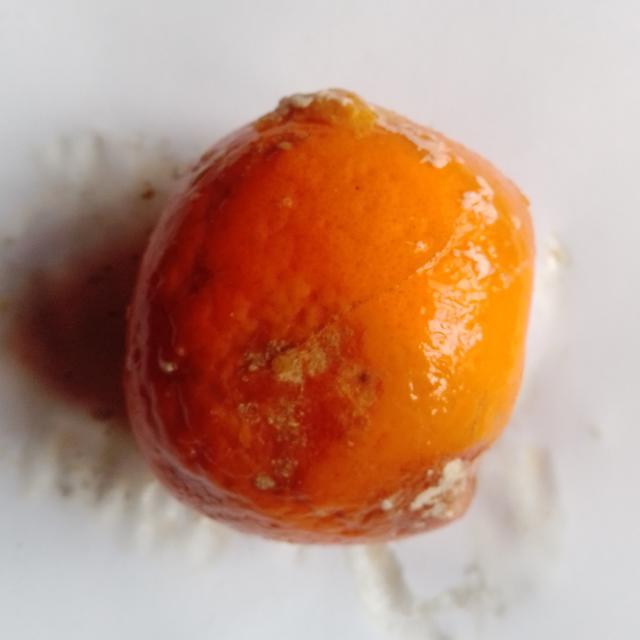orange: (125, 90, 533, 542)
